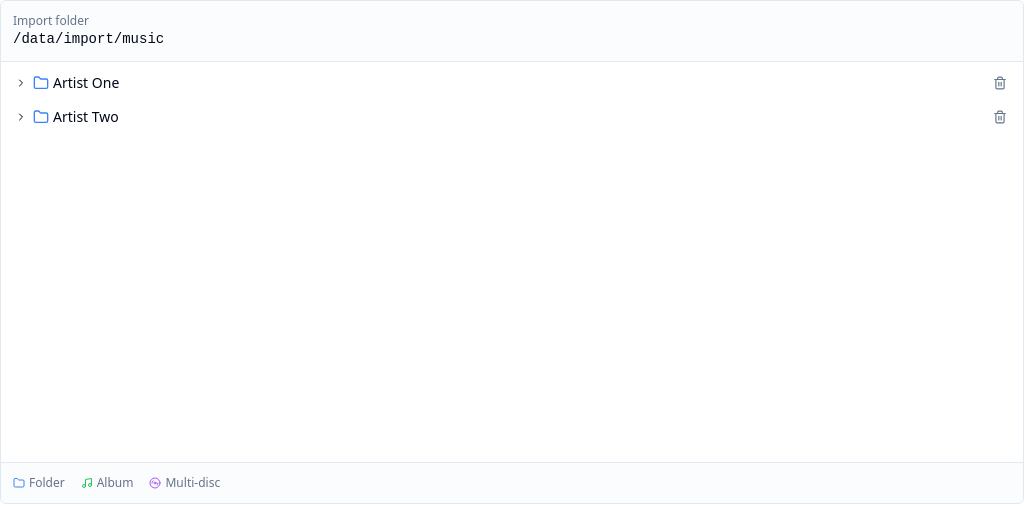
it: ImportFolderTree › Expand/collapse functionality › should expand folder when chevron is clicked
Expected: the text "Album A" is not shown
Note: Click the expand button for "Artist One"
What coordinates should you click on to do the following:
click the 1st button named "expand"
I would click on:
 (21, 83)
Its box is [13,75,29,91].
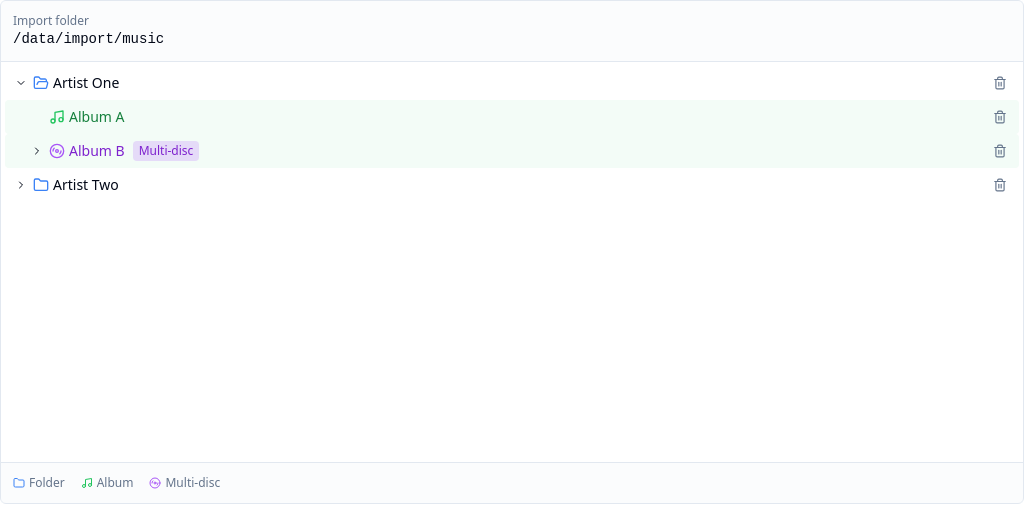
Now the button "Album A" is shown, box [69,107,124,127]
Now the button "Album B" is shown, box [69,141,125,161]
